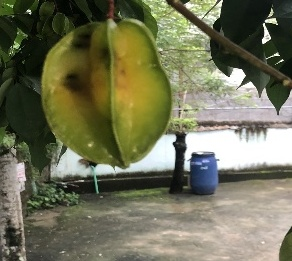Khe: (39, 17, 175, 168)
